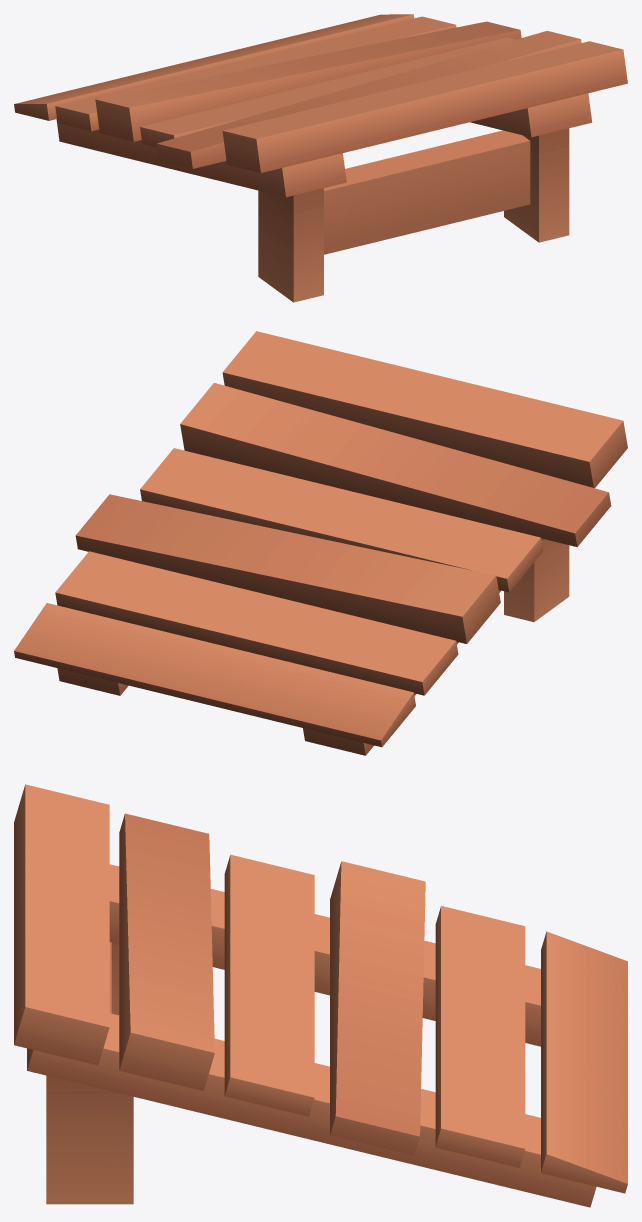
Rendered from ramp-transformed-transformed.glb.
3 renders of one model, top to bottom at view 1: azimuth 30°, elevation 25°; view 2: azimuth 150°, elevation 25°; view 3: azimuth 270°, elevation 25°, orthographic. The views are drawn at different scales.
Parts seen in each view (by area): view 1: ramp; view 2: ramp; view 3: ramp.
Boxes of the visible parts, <box> form: ramp: <box>14,14,627,302</box>; ramp: <box>14,331,627,755</box>; ramp: <box>14,784,627,1207</box>.
Bounding box in the file's own units: 2.73 × 1.14 × 2.81.
Materials: 1 (1 with a texture image).
